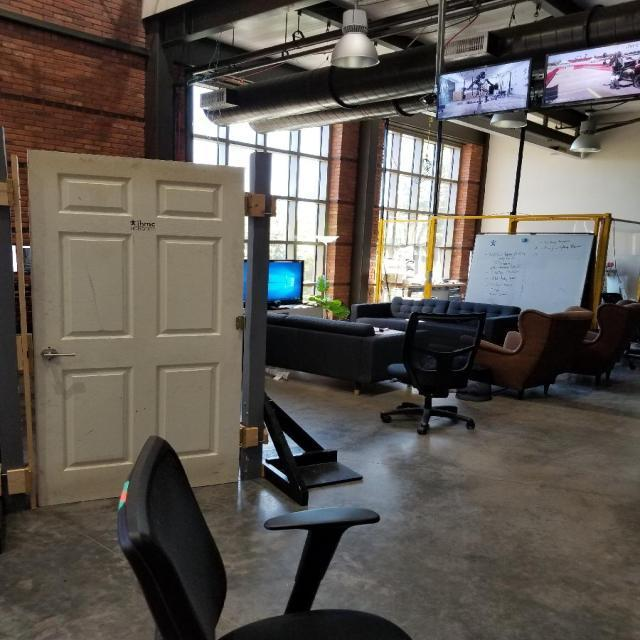door: (18, 147, 246, 510), (38, 347, 82, 362)
